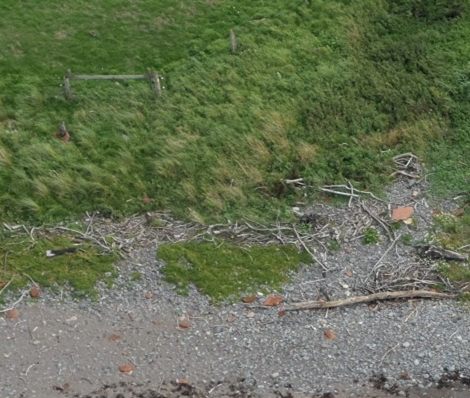straight_bar: (284, 282, 452, 317)
white_in_green: (370, 187, 437, 243), (32, 227, 92, 277)
